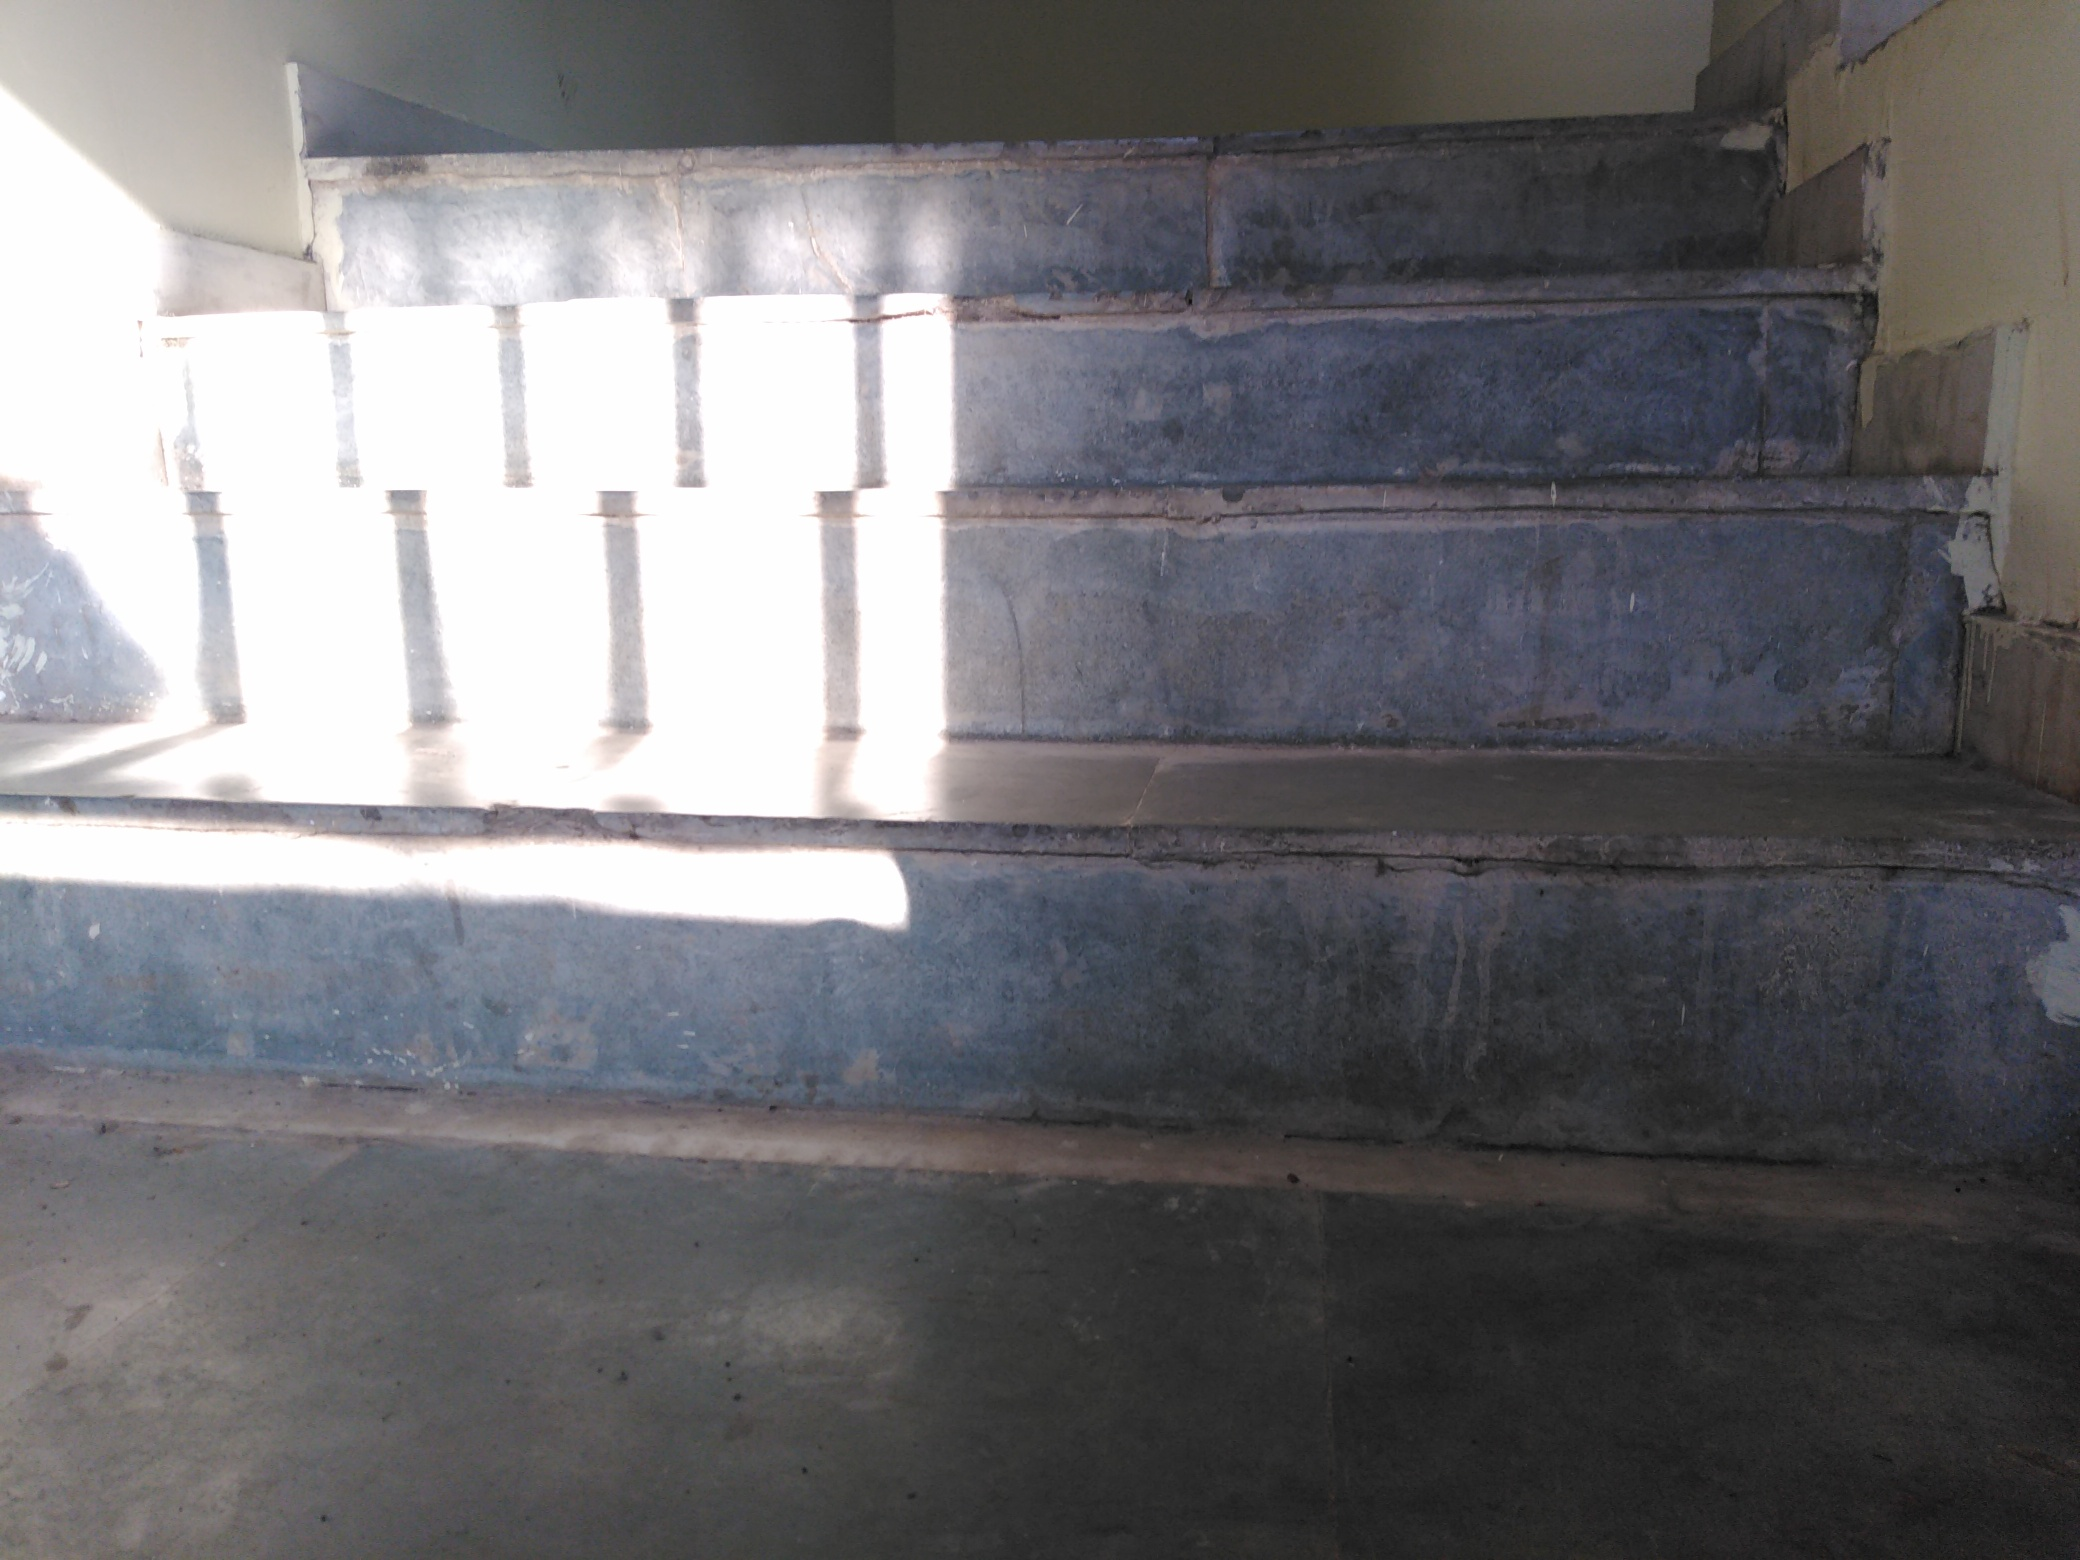stairs_up: (10, 151, 2060, 1173)
